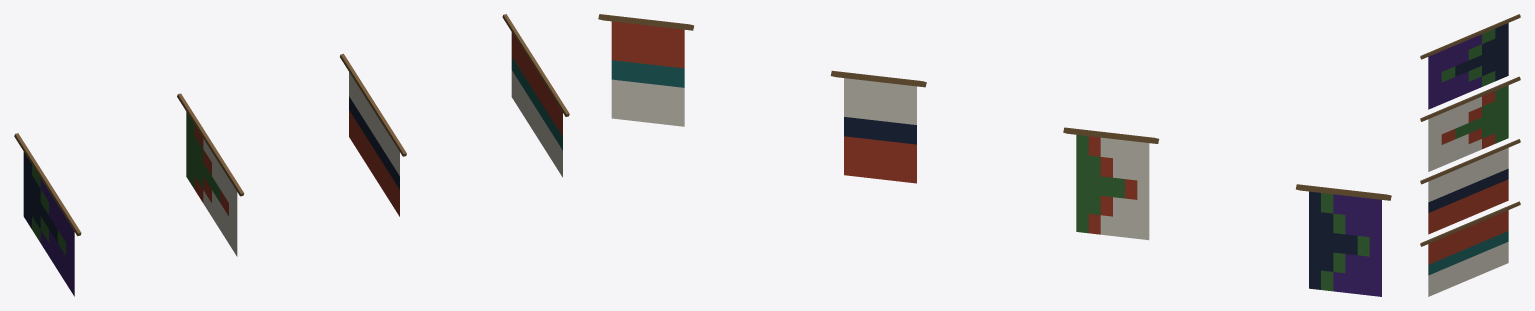
File: board.flags.third.glb
The picture shows the model from 3 angles, left to right: view 1: azimuth 30°, elevation 25°; view 2: azimuth 150°, elevation 25°; view 3: azimuth 270°, elevation 25°; orthographic projection. The views are drawn at different scales.
Parts seen in each view (by area): view 1: board_flags_third; view 2: board_flags_third; view 3: board_flags_third.
Boxes of the visible parts, box(x1,y1,x2,y2) form: board_flags_third: box(14, 14, 569, 296); board_flags_third: box(598, 14, 1391, 296); board_flags_third: box(1420, 14, 1520, 296).
Size of what is drawn, in the model's own units: 5.28 by 1.24 by 1.19.
